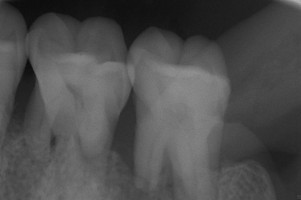Dental Caries: (107, 150, 177, 200)
